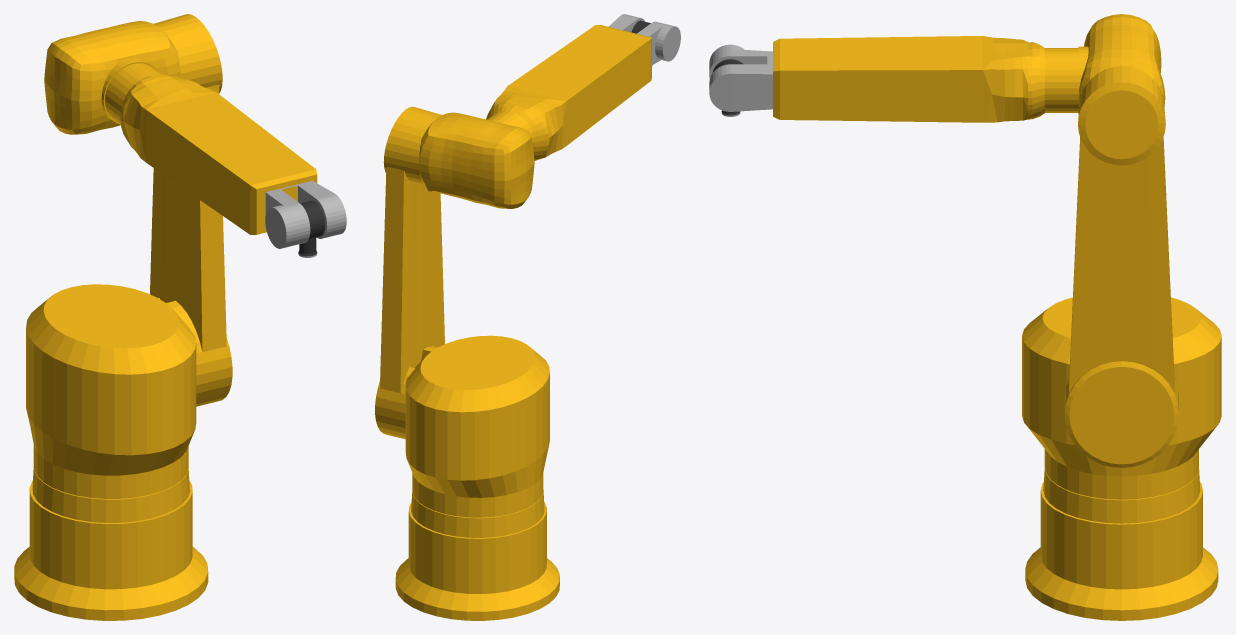
The picture shows the model from 3 angles, left to right: view 1: azimuth 30°, elevation 25°; view 2: azimuth 150°, elevation 25°; view 3: azimuth 270°, elevation 25°; orthographic projection. The views are drawn at different scales.
Visible parts, largest first — view 1: shoulder, forearm, base, arm, elbow, hand; view 2: shoulder, base, arm, forearm, elbow; view 3: arm, forearm, base, shoulder, elbow.
Boxes of the visible parts, x1,y1,x2,y2 form: shoulder: (26, 284, 196, 498); forearm: (105, 63, 346, 248); base: (14, 465, 208, 620); arm: (150, 14, 232, 406); elbow: (44, 21, 180, 134); hand: (298, 200, 325, 257); shoulder: (405, 335, 549, 517); base: (395, 490, 559, 620); arm: (375, 106, 444, 439); forearm: (486, 14, 680, 160); elbow: (419, 112, 534, 208); arm: (1064, 66, 1178, 467); forearm: (709, 36, 1078, 122); base: (1025, 468, 1218, 620); shoulder: (1022, 297, 1221, 499); elbow: (1078, 14, 1165, 113).
Size of the model in its own units: 5.23 by 15.1 by 12.89.
